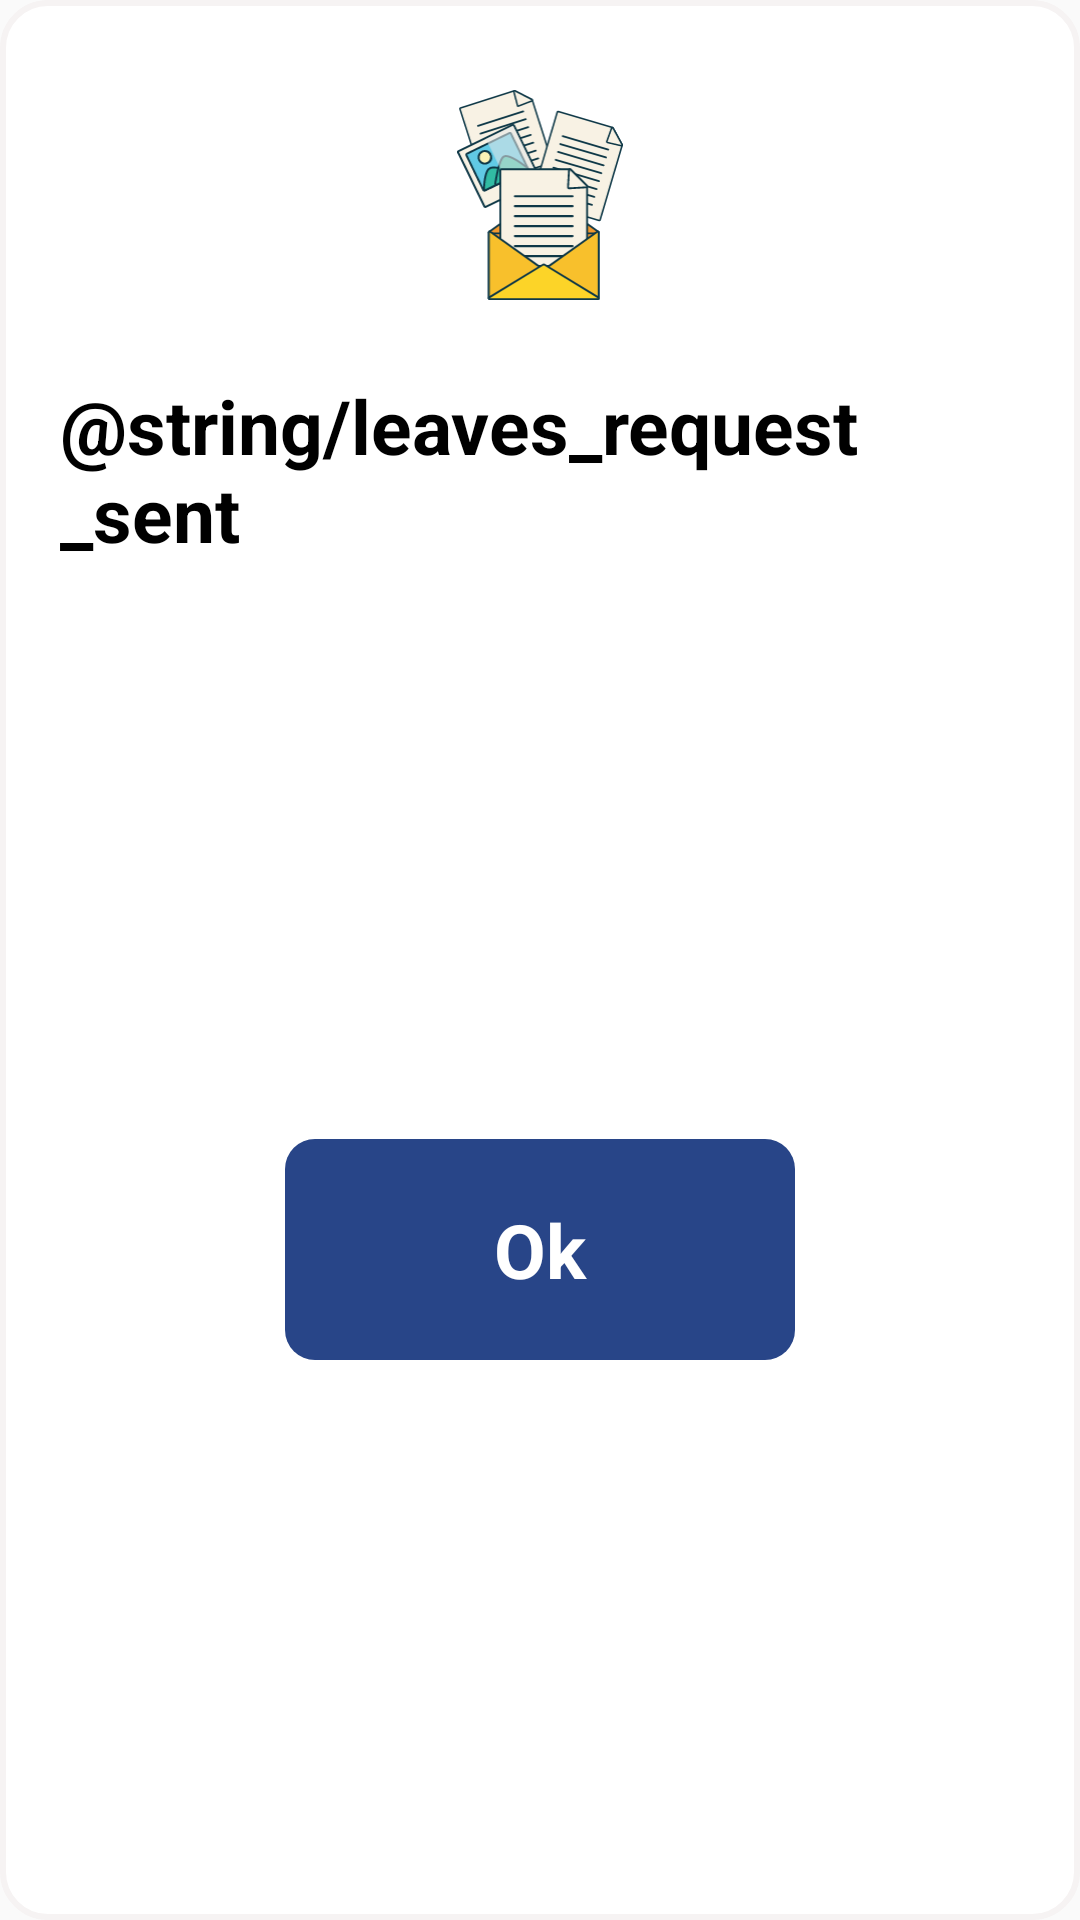

Where to tap for icons on this 1080px×1920px app screen, as [x,y]:
registration request sent: [540,195]
